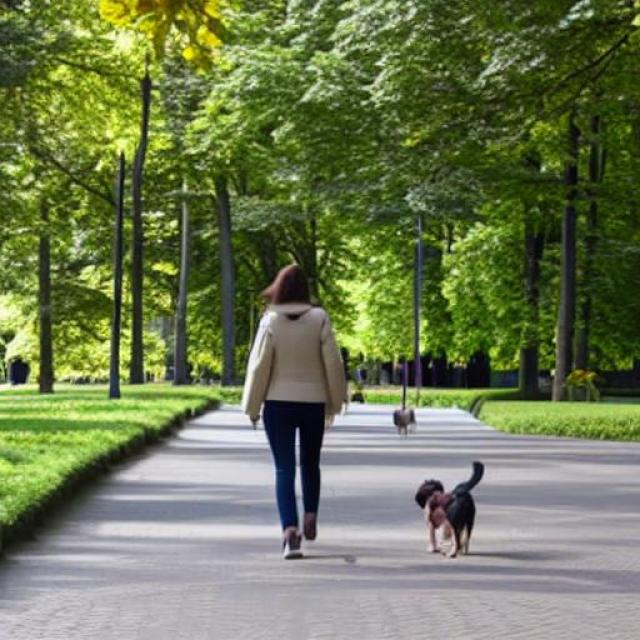Unleashed_Dog: (264, 401, 484, 560)
